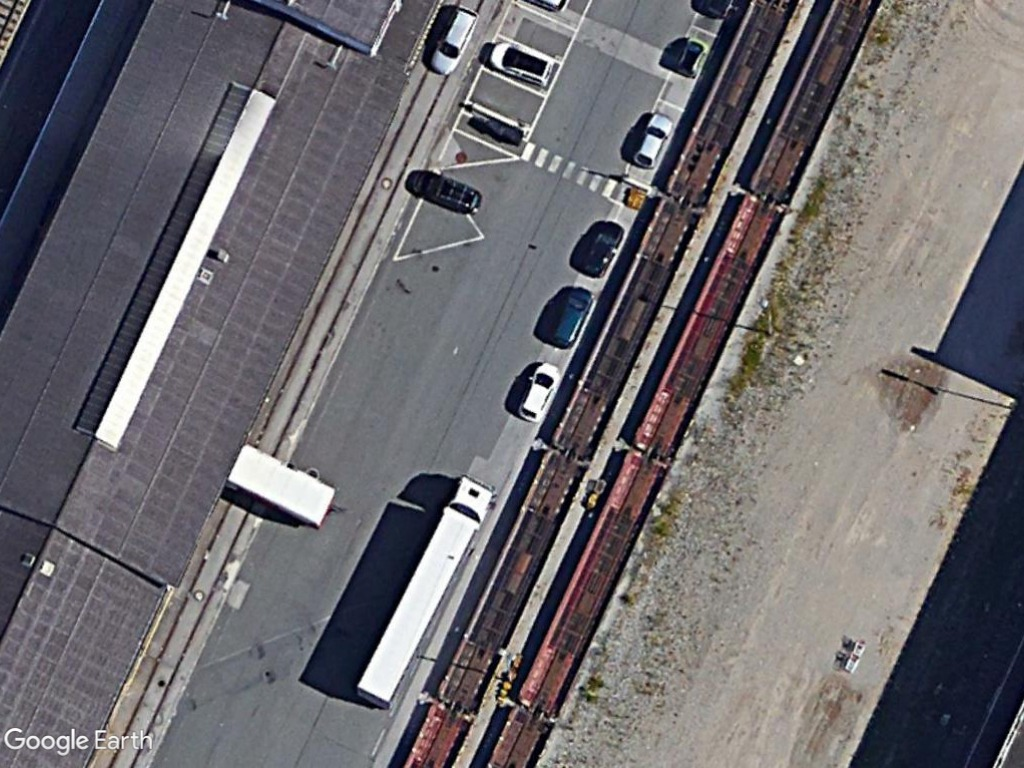car: (422, 4, 482, 79), (545, 281, 596, 355), (574, 217, 626, 284), (513, 356, 564, 423), (628, 107, 677, 172)
longvehicle: (346, 466, 498, 712)
